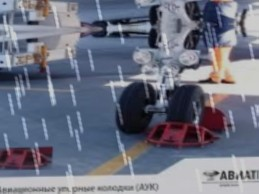chock: (144, 121, 222, 150), (0, 147, 54, 171), (200, 106, 234, 135)
wheel: (114, 82, 159, 134), (165, 84, 208, 126)
